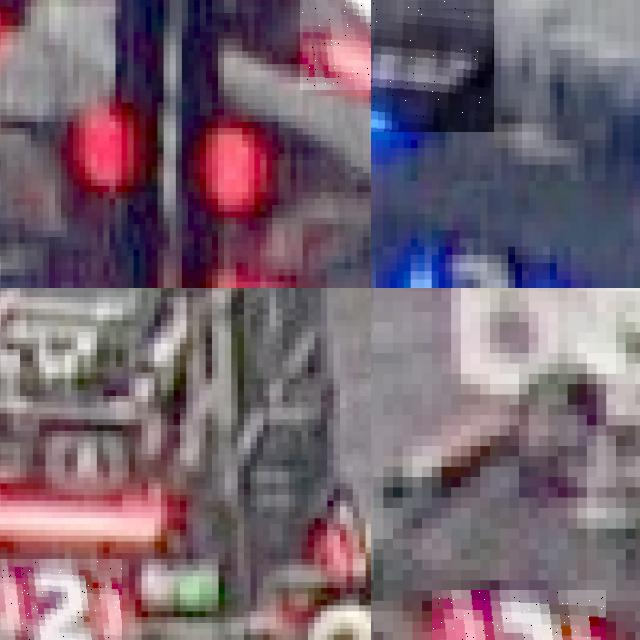B3: (371, 0, 494, 131), (404, 238, 564, 288)
R2: (0, 558, 122, 640)
R3: (431, 590, 606, 640)
R4: (299, 0, 371, 90)
